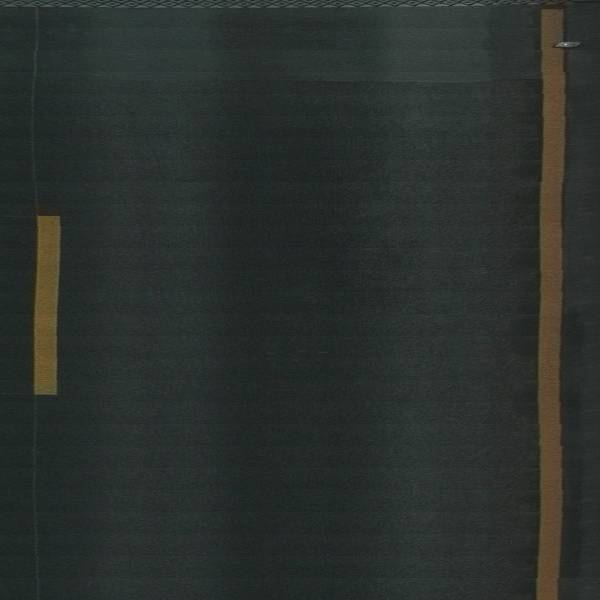road_damage: (184, 65, 528, 93), (33, 1, 532, 11)
